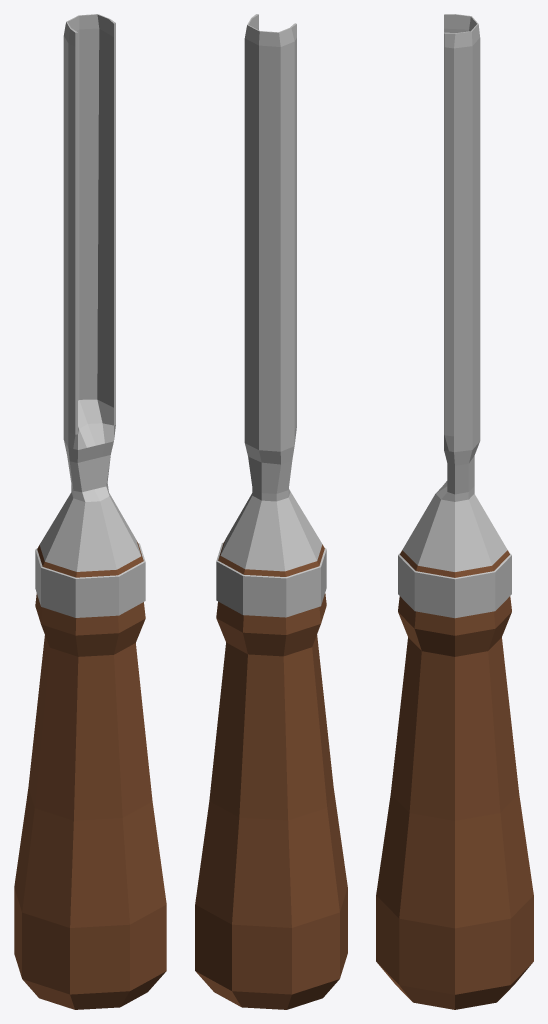
File: chisel04.obj
3 renders of one model, left to right at view 1: azimuth 30°, elevation 25°; view 2: azimuth 150°, elevation 25°; view 3: azimuth 270°, elevation 25°, orthographic.
Parts seen in each view (by area): view 1: Cylinder_Cylinder.002; view 2: Cylinder_Cylinder.002; view 3: Cylinder_Cylinder.002.
Boxes of the visible parts, <box> form: Cylinder_Cylinder.002: <box>14,14,166,1009</box>; Cylinder_Cylinder.002: <box>195,14,347,1009</box>; Cylinder_Cylinder.002: <box>376,14,533,1009</box>.
Size of the model in its own units: 0.0276 by 0.1858 by 0.0276.
Materials: 1 (1 with a texture image).
